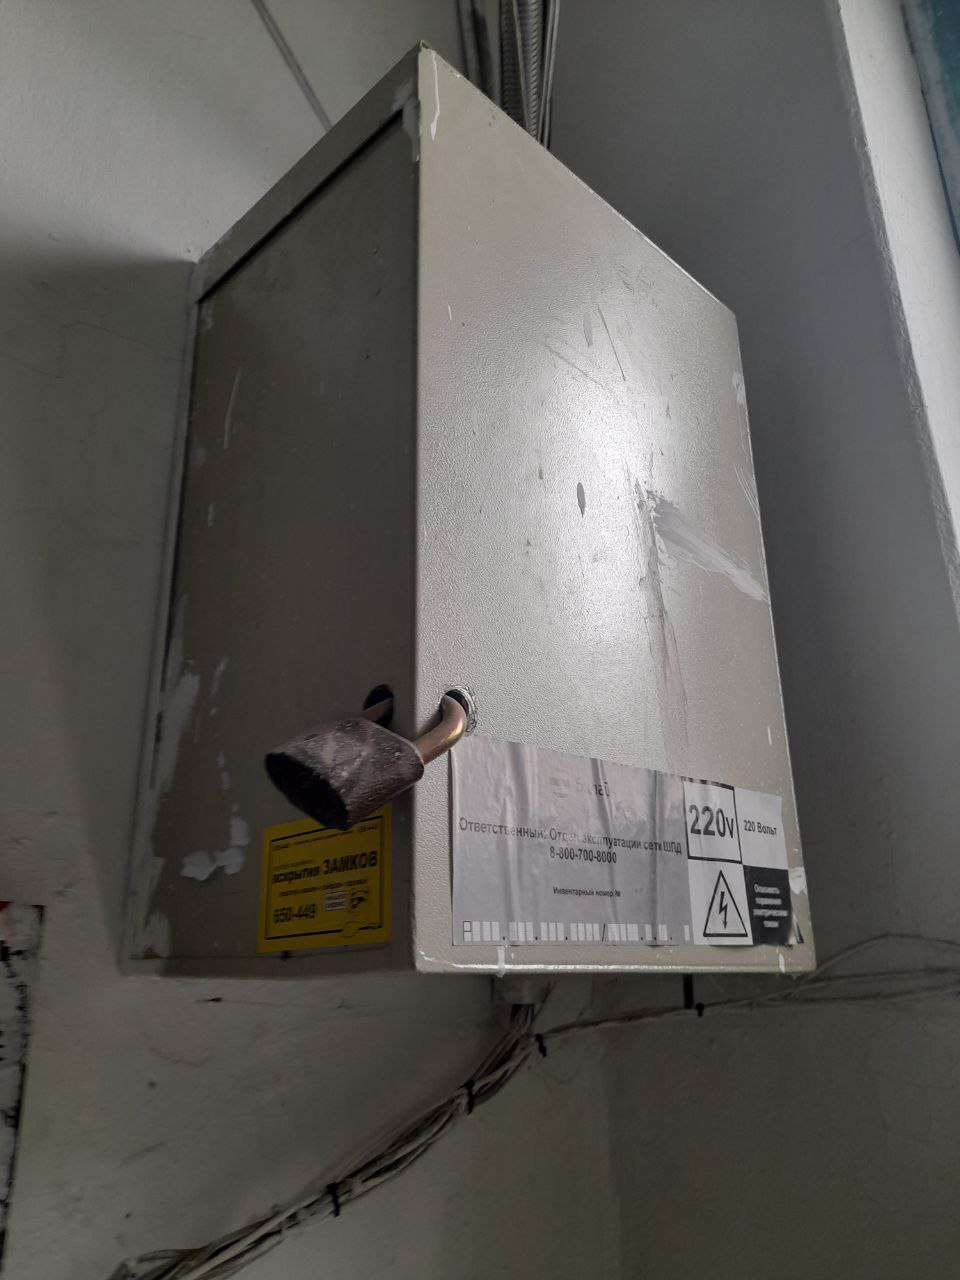sv-5: (106, 30, 829, 994)
